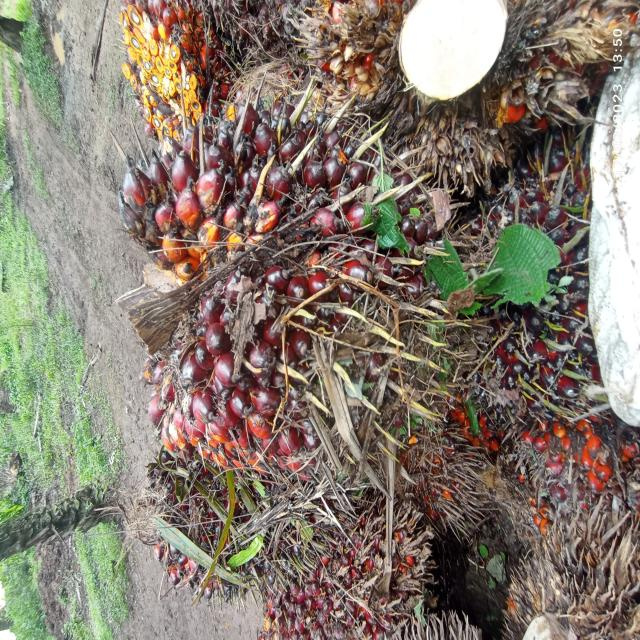fraksi 1: (104, 74, 451, 487), (439, 152, 621, 484), (254, 532, 435, 640)
fraksi 4: (510, 405, 626, 573)
